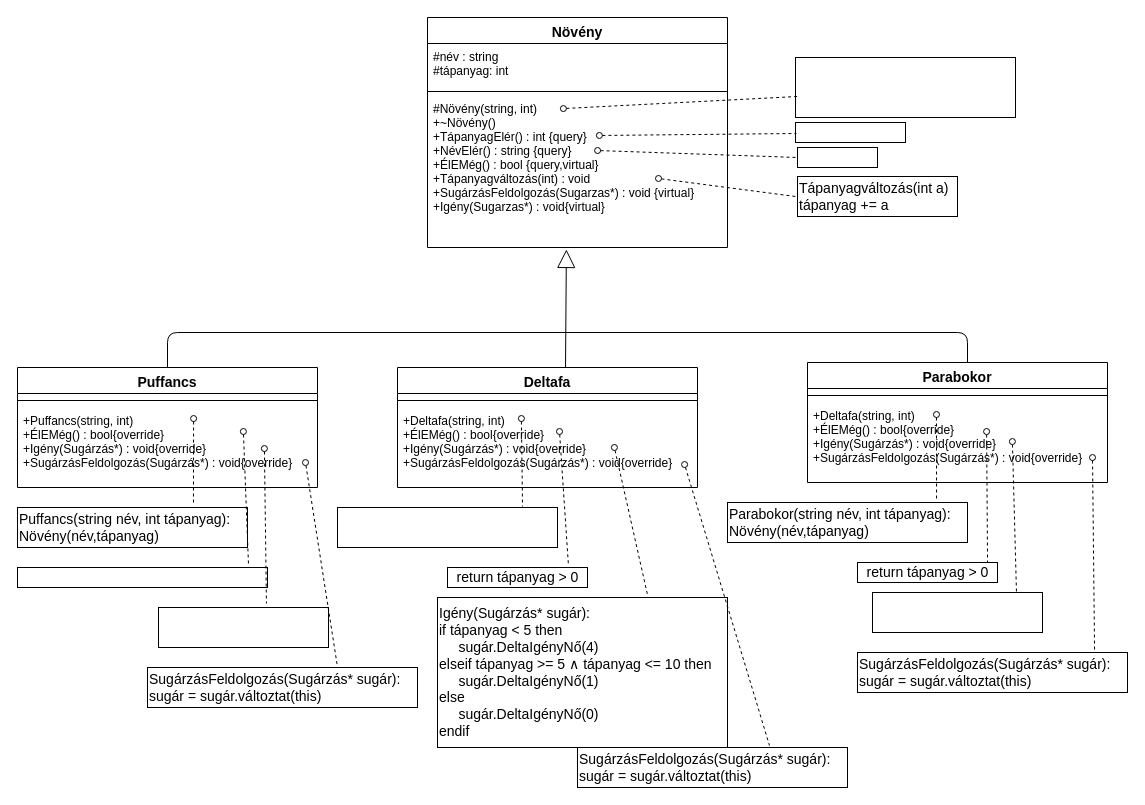
The diagram is 1145 pixels wide and 805 high, and some of its shapes have lost their labels. Each missing label, with the box of its shape:
Deltafa(string név, int tápanyag): Növény(név,tápanyag): (336, 506, 558, 548)
Igény(Sugárzás* sugár): sugár->AlfaIgényNő(0): (872, 592, 1042, 632)
Igény(Sugárzás* sugár): sugár->AlfaIgényNő(10): (158, 606, 328, 648)
Növény(string név, int tápanyag) név = név tápanyag = tápanyag: (794, 56, 1016, 118)
return név: (796, 146, 878, 168)
return tápanyag: (794, 122, 906, 142)
return tápanyag > 0 ∧ tápanyag <= 10: (16, 566, 268, 588)
